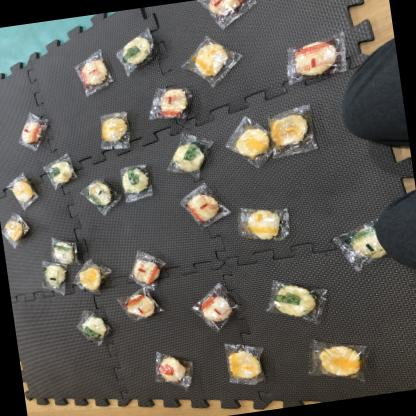green_setoshio: (262, 271, 330, 328), (329, 212, 389, 274), (158, 128, 219, 182), (114, 29, 164, 72), (116, 160, 158, 204), (80, 173, 121, 217), (72, 308, 110, 351), (40, 150, 79, 191), (37, 258, 67, 298), (44, 235, 80, 268)
red_setoshio: (277, 31, 350, 86), (144, 82, 197, 126), (176, 184, 227, 229), (121, 246, 170, 290), (189, 286, 238, 330), (148, 348, 196, 390), (71, 50, 113, 97), (115, 284, 163, 324), (10, 109, 52, 152), (193, 0, 253, 28)
yellow_setoshio: (176, 32, 242, 86), (306, 337, 368, 391), (231, 198, 294, 249), (266, 106, 321, 156), (224, 114, 276, 166), (90, 104, 142, 152), (224, 338, 264, 386), (71, 259, 111, 298), (0, 211, 37, 248), (6, 174, 40, 207)
